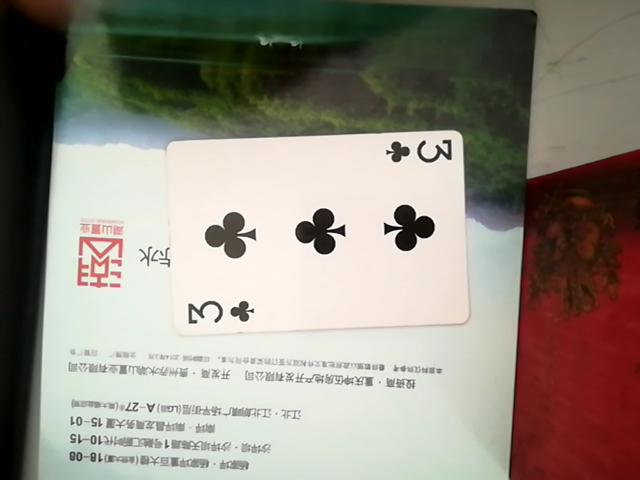mh 3: (148, 122, 473, 342)
